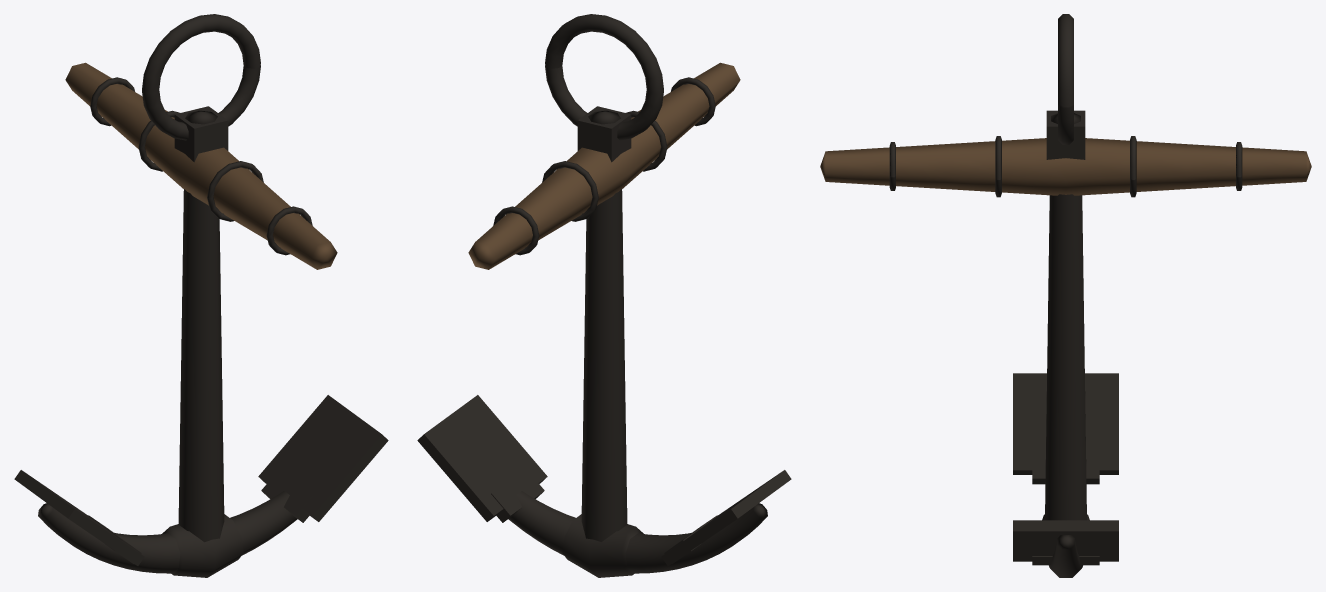
File: ancre.glb
3 renders of one model, left to right at view 1: azimuth 30°, elevation 25°; view 2: azimuth 150°, elevation 25°; view 3: azimuth 270°, elevation 25°, orthographic.
Parts seen in each view (by area): view 1: ancre; view 2: ancre; view 3: ancre.
Part boxes in pixels (x1,y1,x2,y2): ancre: [14, 14, 388, 577]; ancre: [417, 14, 791, 577]; ancre: [820, 14, 1311, 577].
Bounding box in the file's own units: 0.7616 × 1.25 × 1.02.
